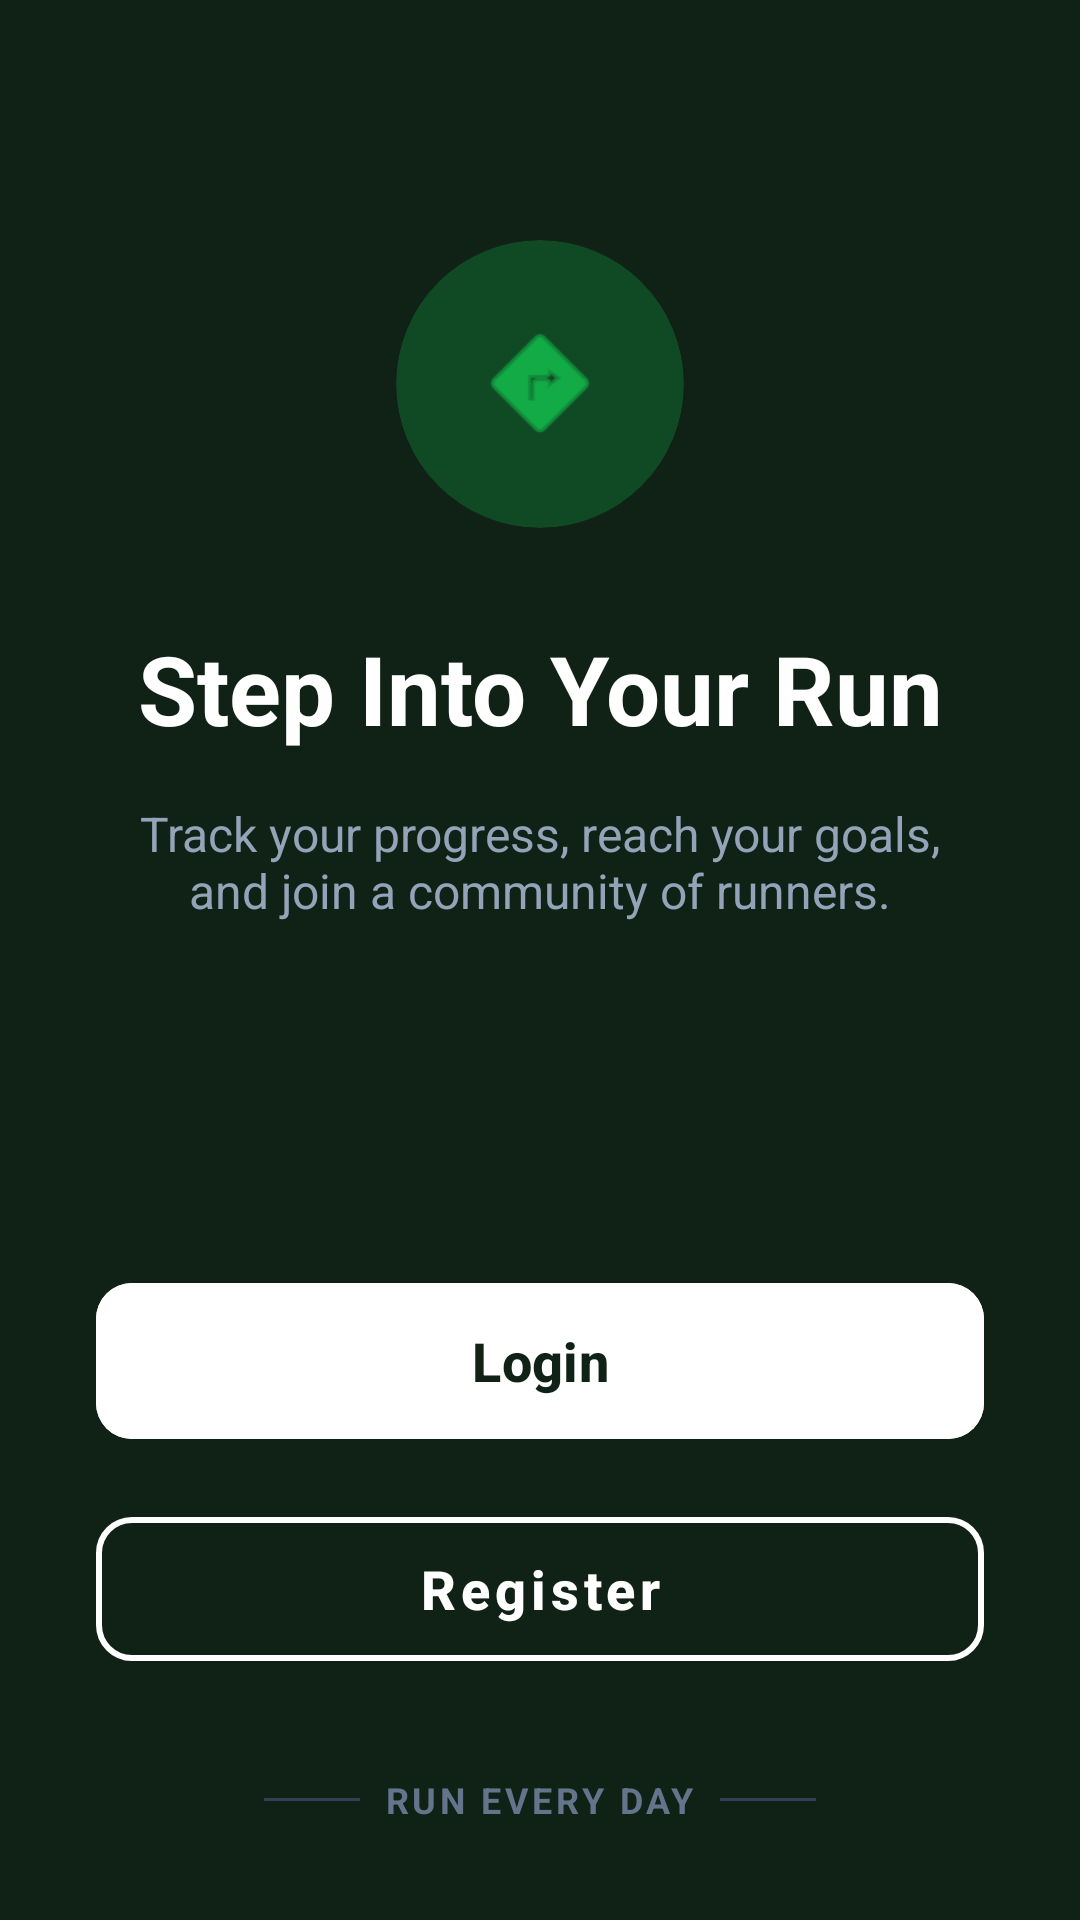

Icon click points for this 1080x1920 phone screenshot, format [x,y]:
directions: [540,383]
